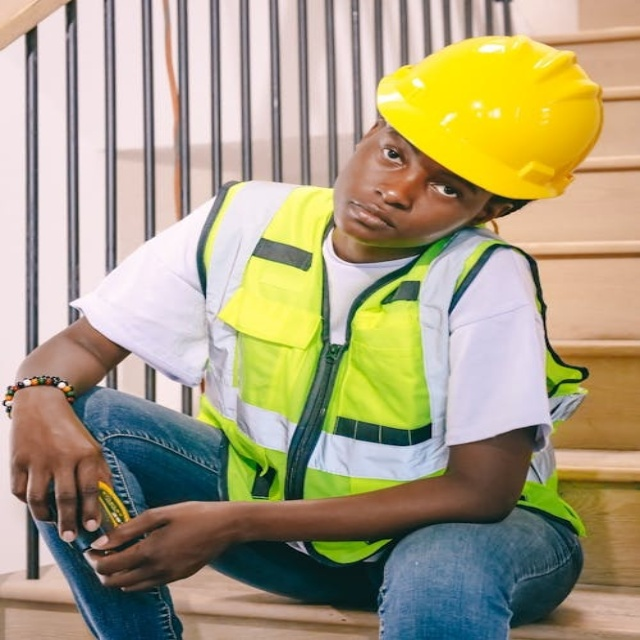Sin_gafas: (367, 132, 483, 215)
Sin_guantes: (8, 384, 114, 538), (80, 501, 231, 594)
Sin_mascara: (337, 196, 401, 247)
